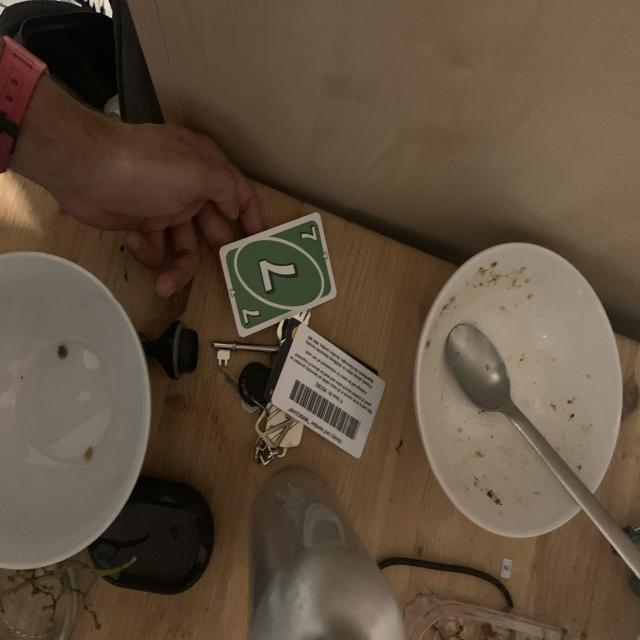lgreen-7: (296, 222, 322, 248)
